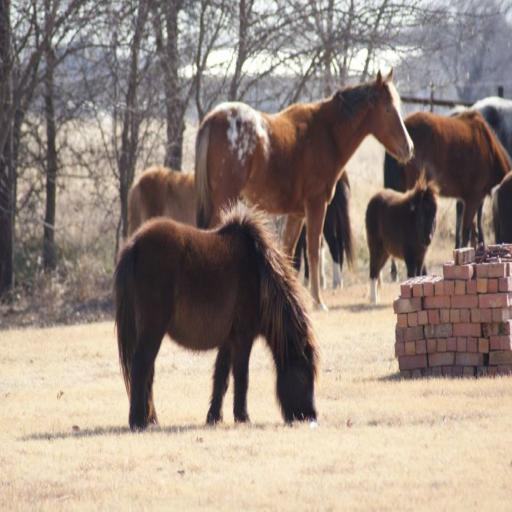horse: (114, 65, 512, 433)
